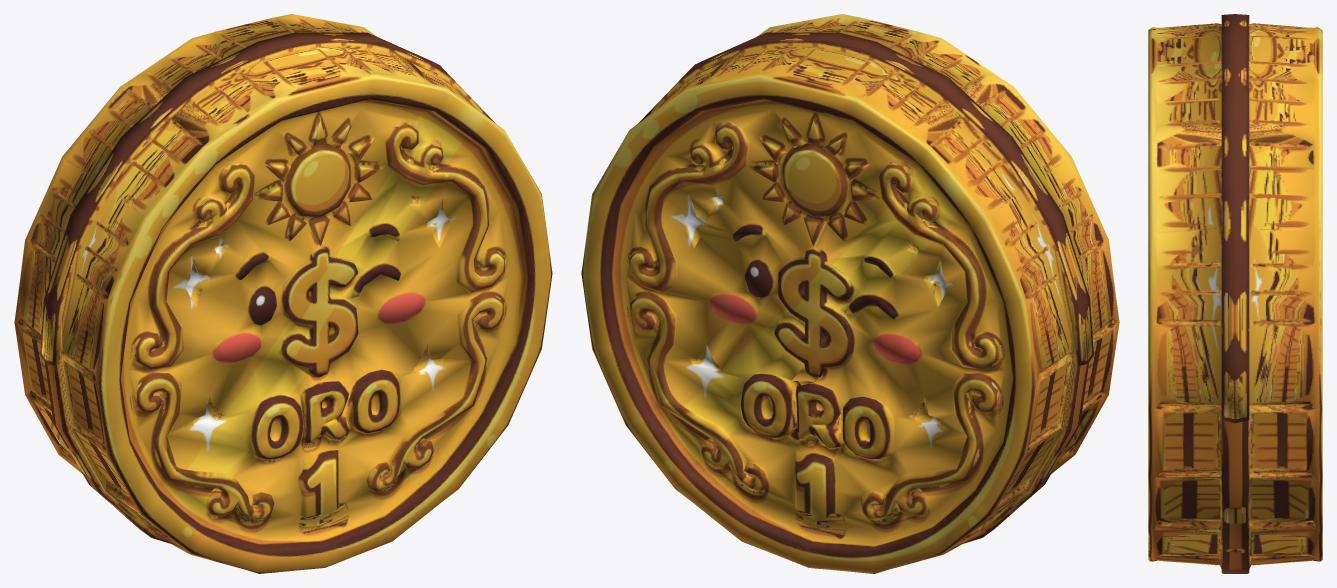
Rendered from gold+coin.fbx.
3 renders of one model, left to right at view 1: azimuth 30°, elevation 25°; view 2: azimuth 150°, elevation 25°; view 3: azimuth 270°, elevation 25°, orthographic.
Parts seen in each view (by area): view 1: tripo_node_0dbe2774-820d-4183-bc9e-6b2bb3036628; view 2: tripo_node_0dbe2774-820d-4183-bc9e-6b2bb3036628; view 3: tripo_node_0dbe2774-820d-4183-bc9e-6b2bb3036628.
Boxes of the visible parts, left/top/right/bottom form: tripo_node_0dbe2774-820d-4183-bc9e-6b2bb3036628: left=14, top=14, right=552, bottom=573; tripo_node_0dbe2774-820d-4183-bc9e-6b2bb3036628: left=581, top=14, right=1119, bottom=573; tripo_node_0dbe2774-820d-4183-bc9e-6b2bb3036628: left=1148, top=14, right=1322, bottom=573.
Bounding box in the file's own units: 0.9516 × 0.9726 × 0.3006.
